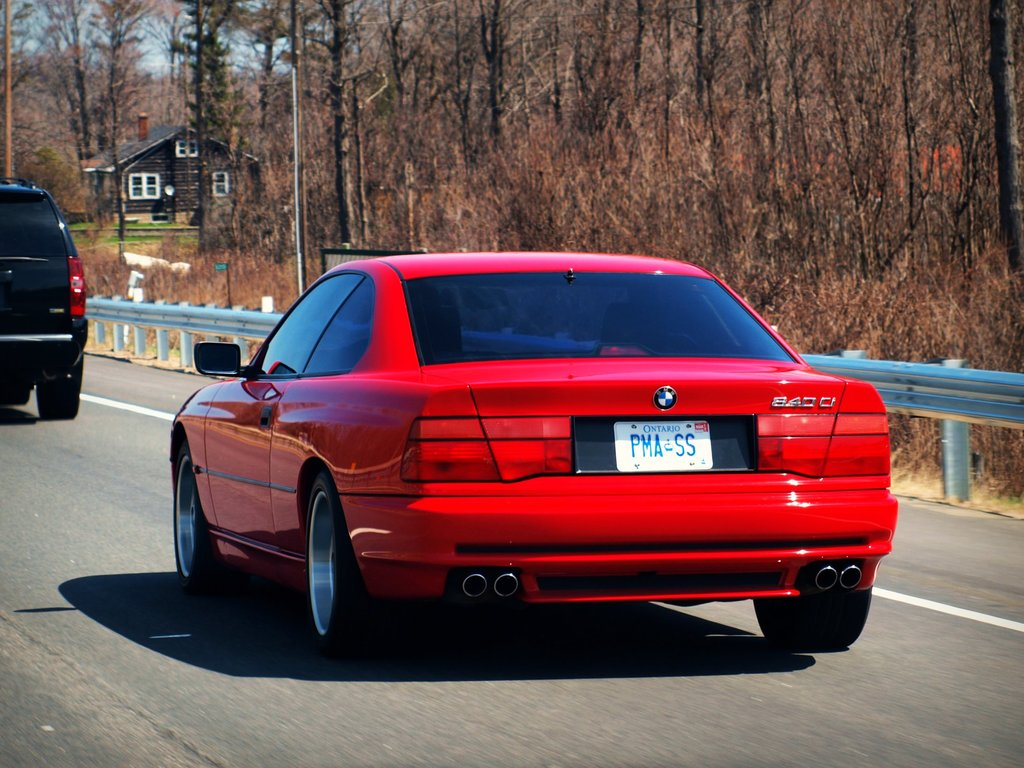Car: (171, 245, 897, 664), (0, 177, 85, 415)
